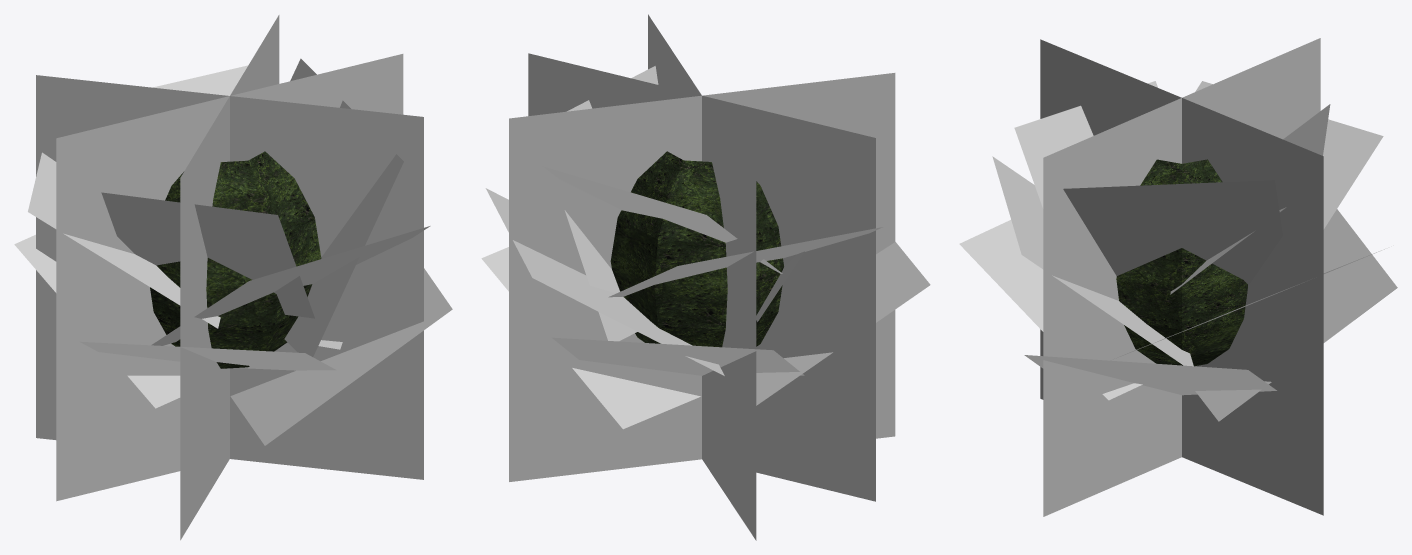
Rendered from Tree_01_WithBlob.fbx.
The picture shows the model from 3 angles, left to right: view 1: azimuth 30°, elevation 25°; view 2: azimuth 150°, elevation 25°; view 3: azimuth 270°, elevation 25°; orthographic projection.
Parts seen in each view (by area): view 1: Tree_01; view 2: Tree_01; view 3: Tree_01.
Boxes of the visible parts, x1=… form: Tree_01: x1=14, y1=15, x2=452, y2=540; Tree_01: x1=481, y1=14, x2=930, y2=540; Tree_01: x1=959, y1=38, x2=1397, y2=516.
Bounding box in the file's own units: 1588 × 1420 × 1572.
